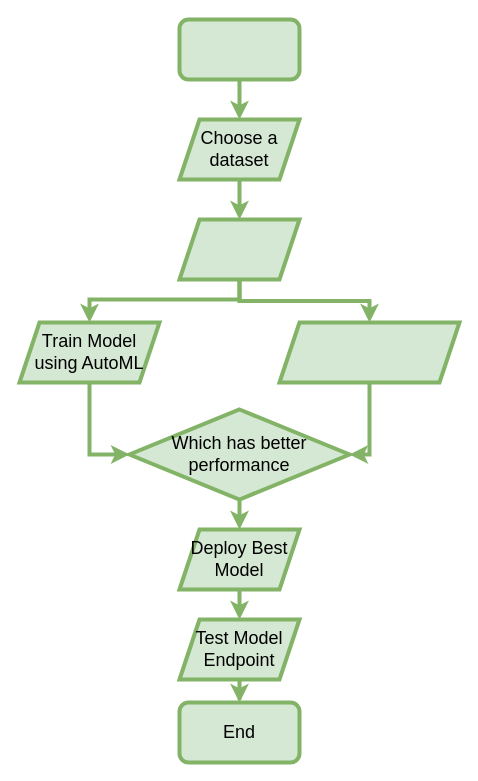
This 478x781 diagram has some shape labels left out. The shapes that lost their labels are listed below. From the top down, each one's centre as x and y in pixels, then its label:
At (x=239, y=49): "Start".
At (x=239, y=249): "Import Dataset into workspace".
At (x=369, y=352): "Train Model using Hyperdrive".
